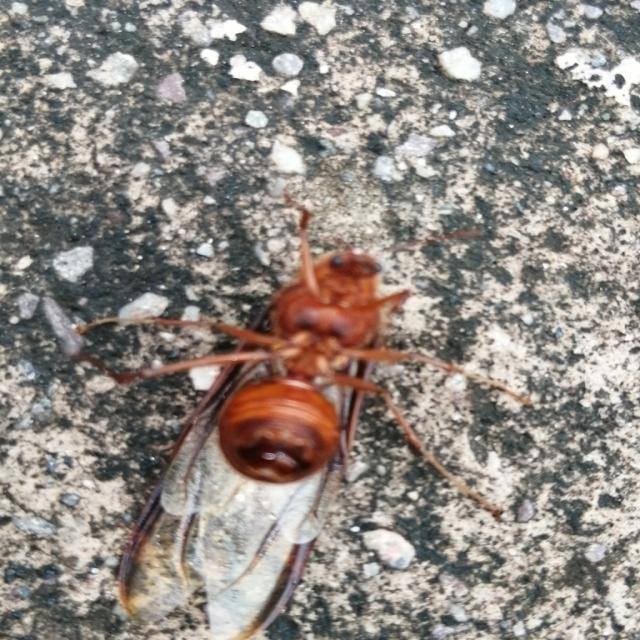Alive-Male-Alate: (75, 182, 532, 640)
